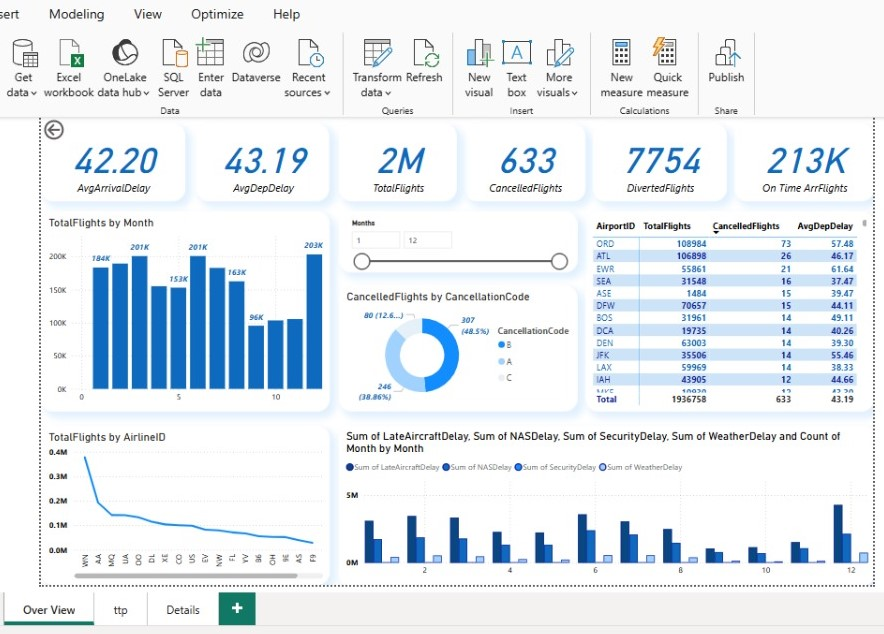

This screenshot's page, from the dashboard's own definition file:
{"tool":"powerbi","page":{"name":"Over View","canvas":[1280,720],"ordinal":0},"visuals":[{"type":"card","fields":{"Values":["Daxmeasures.AvgArrivalDelay"]},"box":[0,10.1,221.8,119.5],"z":0},{"type":"card","fields":{"Values":["Daxmeasures.AvgDepDelay"]},"box":[239,10.1,204.5,119.5],"z":1000},{"type":"card","fields":{"Values":["Daxmeasures.CancelledFlights"]},"box":[650.9,10.1,185.8,119.5],"z":2000},{"type":"card","fields":{"Values":["Daxmeasures.TotalFlights"]},"box":[457.9,10.1,181.4,119.5],"z":3000},{"type":"card","fields":{"Values":["Daxmeasures.DivertedFlights"]},"box":[848.2,10.1,205.9,119.5],"z":4000},{"type":"card","fields":{"Values":["Daxmeasures.On Time ArrFlights"]},"box":[1065.6,10.1,214.6,119.5],"z":5000},{"type":"columnChart","fields":{"Y":["Daxmeasures.TotalFlights"],"Category":["DimDate.Month"]},"box":[0,145.4,443.5,308.2],"z":6000},{"type":"lineChart","fields":{"Category":["DimAirline.AirlineID"],"Y":["Daxmeasures.TotalFlights"]},"box":[0,475.2,443.5,244.8],"z":7000},{"type":"donutChart","fields":{"Y":["Daxmeasures.CancelledFlights"],"Category":["FactDelay.CancellationCode"]},"box":[457.9,259.2,367.2,194.4],"z":8000},{"type":"clusteredColumnChart","fields":{"Category":["DimDate.Month"],"Y":["Sum(FactDelay.LateAircraftDelay)","Sum(FactDelay.NASDelay)","Sum(FactDelay.SecurityDelay)","Sum(FactDelay.WeatherDelay)"]},"box":[457.9,475.2,822.2,244.8],"z":9000},{"type":"pivotTable","fields":{"Rows":["DimAirport.AirportID"],"Values":["Daxmeasures.TotalFlights","Daxmeasures.CancelledFlights","Daxmeasures.AvgDepDelay"]},"box":[836.6,145.4,443.5,308.2],"z":10000},{"type":"actionButton","box":[0,0,100,40],"z":11000},{"type":"slicer","fields":{"Values":["DimDate.Month"]},"box":[457.9,145.4,367.2,93.6],"z":12000}]}

Visuals, with their boxes on the page's 1280x720 design canvas (x1, y1, x2, y2). These are canvas units, not pixel positions in the 884x634 screenshot, which may show the page scaled, cropped or inside an application window:
card - Daxmeasures.AvgArrivalDelay: region(0, 10, 222, 130)
card - Daxmeasures.AvgDepDelay: region(239, 10, 444, 130)
card - Daxmeasures.CancelledFlights: region(651, 10, 837, 130)
card - Daxmeasures.TotalFlights: region(458, 10, 639, 130)
card - Daxmeasures.DivertedFlights: region(848, 10, 1054, 130)
card - Daxmeasures.On Time ArrFlights: region(1066, 10, 1280, 130)
columnChart - Daxmeasures.TotalFlights x DimDate.Month: region(0, 145, 444, 454)
lineChart - DimAirline.AirlineID x Daxmeasures.TotalFlights: region(0, 475, 444, 720)
donutChart - Daxmeasures.CancelledFlights x FactDelay.CancellationCode: region(458, 259, 825, 454)
clusteredColumnChart - DimDate.Month x Sum(FactDelay.LateAircraftDelay): region(458, 475, 1280, 720)
pivotTable - DimAirport.AirportID x Daxmeasures.TotalFlights: region(837, 145, 1280, 454)
actionButton: region(0, 0, 100, 40)
slicer - DimDate.Month: region(458, 145, 825, 239)
